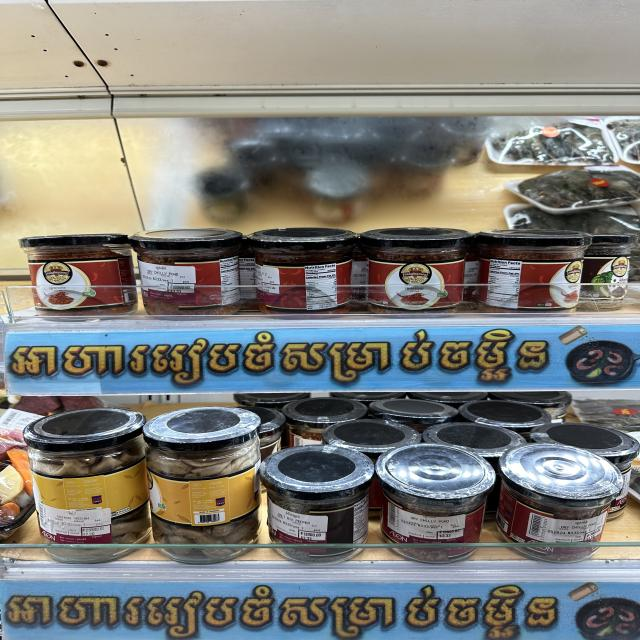Yolov11kh: (6, 329, 549, 390)
